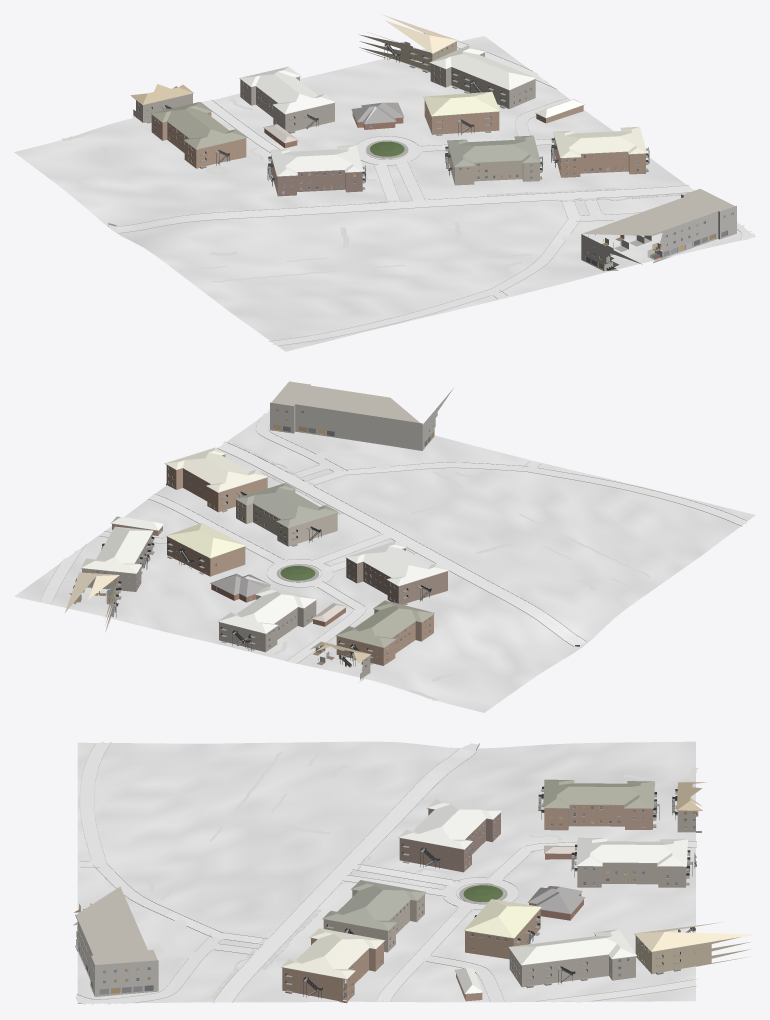
3 renders of one model, top to bottom at view 1: azimuth 30°, elevation 25°; view 2: azimuth 150°, elevation 25°; view 3: azimuth 270°, elevation 25°, orthographic. The views are drawn at different scales.
Parts seen in each view (by area): view 1: ground, roof, wall, concrete, asphalt, detail, curb, roof_flat, wall_com, walk, room, glass (+1 smaller); view 2: ground, roof, wall, concrete, wall_com, asphalt, curb, detail, roof_flat, walk, glass; view 3: ground, roof, wall, concrete, asphalt, detail, roof_flat, curb, walk, wall_com, glass, rail (+1 smaller).
Part boxes in pixels (box(x1,y1,x2,y2)): ground: box(14, 36, 755, 351); roof: box(130, 14, 646, 176); wall: box(133, 34, 645, 196); concrete: box(201, 41, 754, 345); asphalt: box(108, 185, 695, 232); detail: box(135, 33, 732, 270); curb: box(117, 41, 754, 345); roof_flat: box(582, 188, 734, 235); wall_com: box(581, 194, 736, 270); walk: box(61, 98, 688, 282); room: box(257, 41, 733, 270); glass: box(138, 47, 727, 266); ground: box(14, 412, 755, 712); roof: box(65, 447, 448, 663); wall: box(82, 454, 447, 681); concrete: box(40, 409, 746, 663); wall_com: box(270, 384, 453, 450); asphalt: box(217, 441, 586, 646); curb: box(39, 417, 746, 663); detail: box(74, 411, 449, 670); roof_flat: box(271, 381, 419, 422); walk: box(224, 442, 649, 700); glass: box(96, 410, 430, 667); ground: box(77, 741, 695, 1003); roof: box(281, 779, 753, 993); wall: box(282, 803, 750, 1003); concrete: box(75, 741, 696, 1004); asphalt: box(213, 743, 479, 1003); detail: box(78, 789, 738, 998); roof_flat: box(76, 886, 157, 964); curb: box(77, 742, 698, 1003); walk: box(131, 751, 698, 1000); wall_com: box(75, 914, 158, 996); glass: box(78, 806, 695, 994); rail: box(285, 786, 695, 990).
Size of the model in its own units: 254 by 19.51 by 300.
